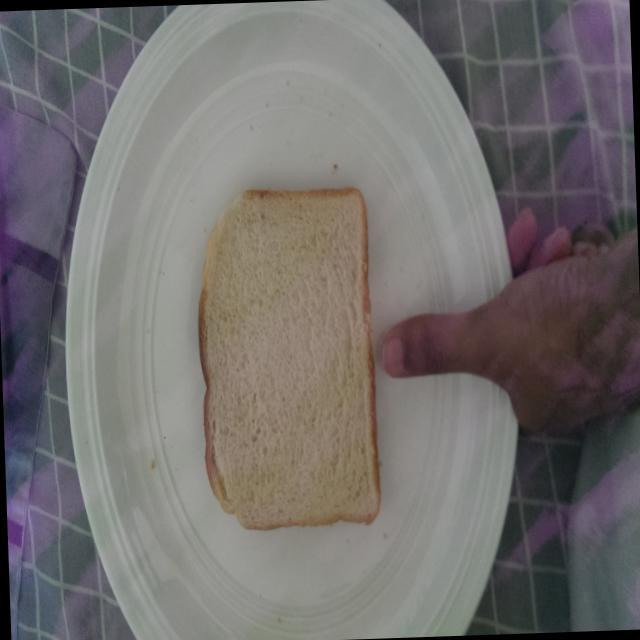Bread: (187, 172, 386, 540)
Finger: (372, 307, 460, 389)
